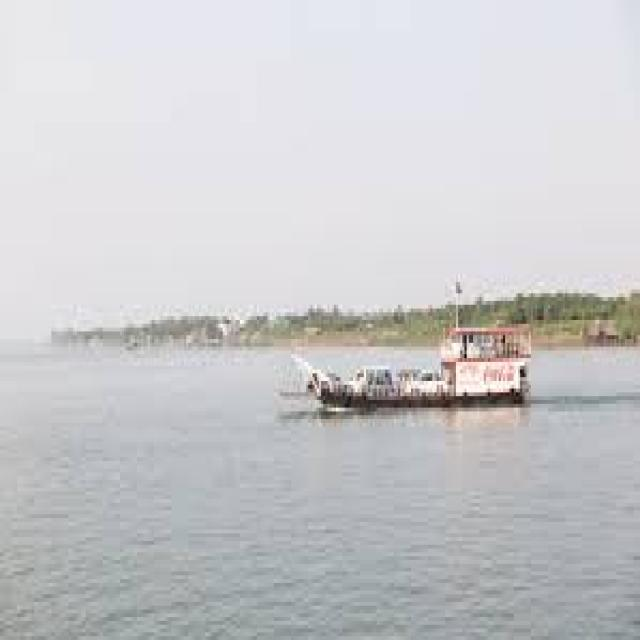cargoship: (288, 293, 541, 421)
